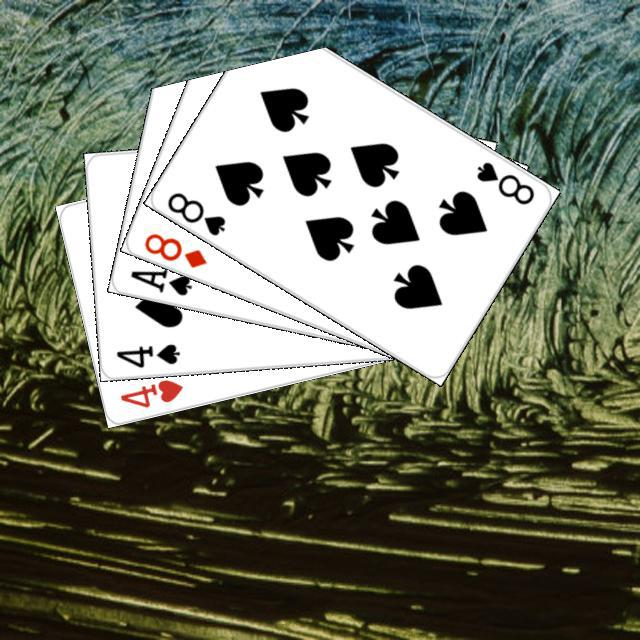4h: (115, 374, 185, 410)
4s: (111, 338, 182, 370)
8d: (139, 228, 209, 270)
8s: (162, 187, 228, 238), (471, 156, 537, 207)
As: (125, 264, 194, 298)
